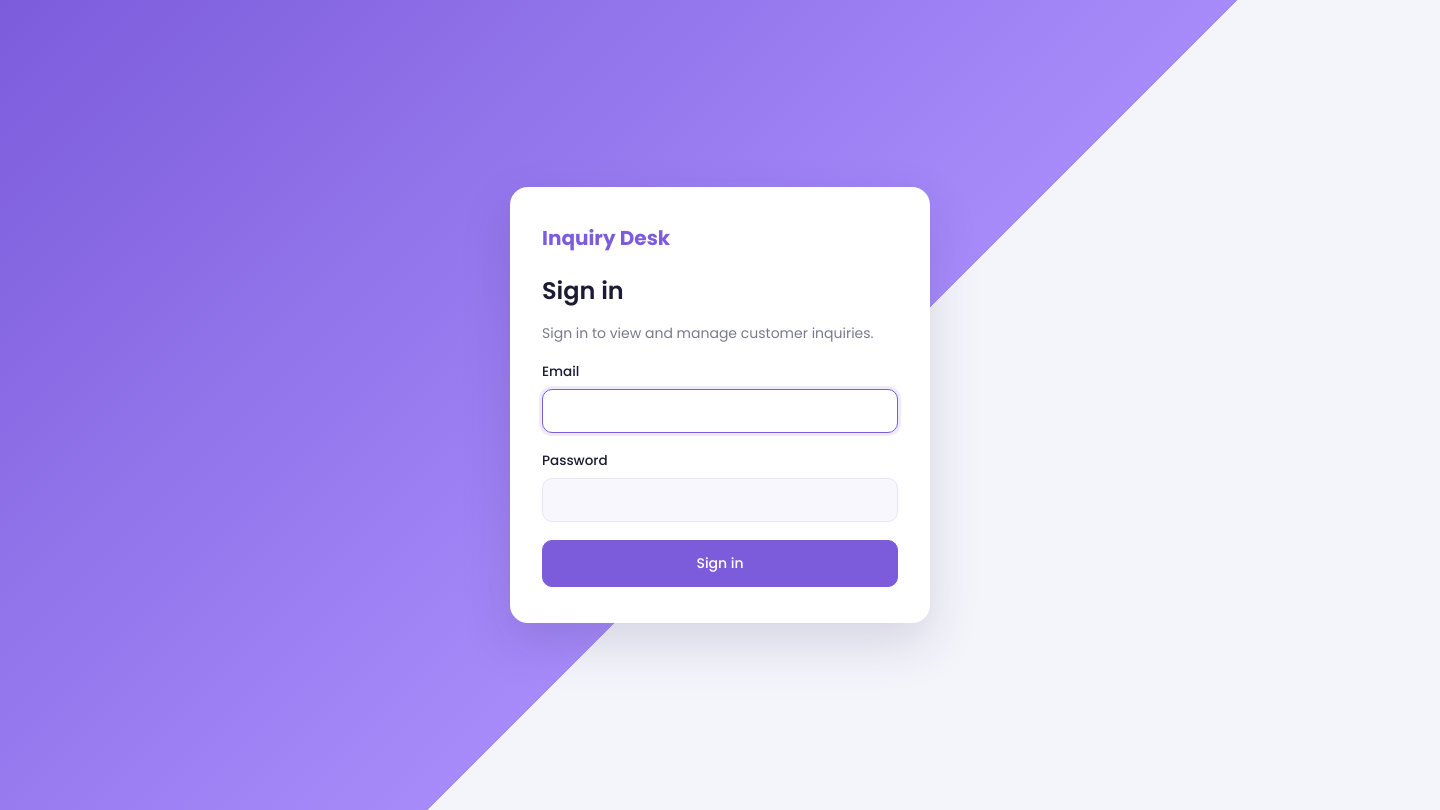
Scenario: LoginPage › shows field errors and does not call the API when submitted empty
Click the button "Sign in".
click(720, 564)  # box [542,540,898,587]
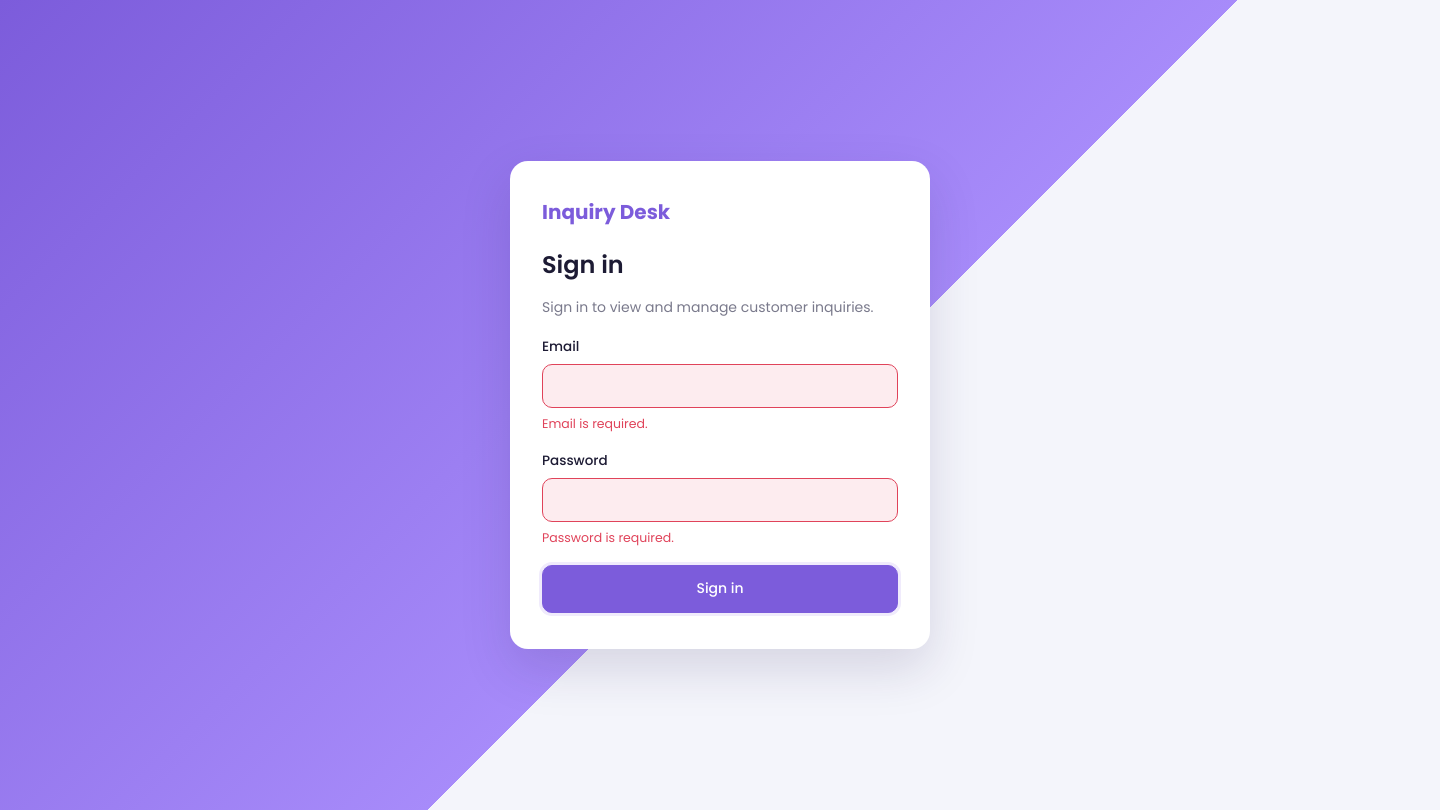
Now the text "Email is required." is shown, box [542,415,648,432]
Now the text "Password is required." is shown, box [542,529,674,546]
